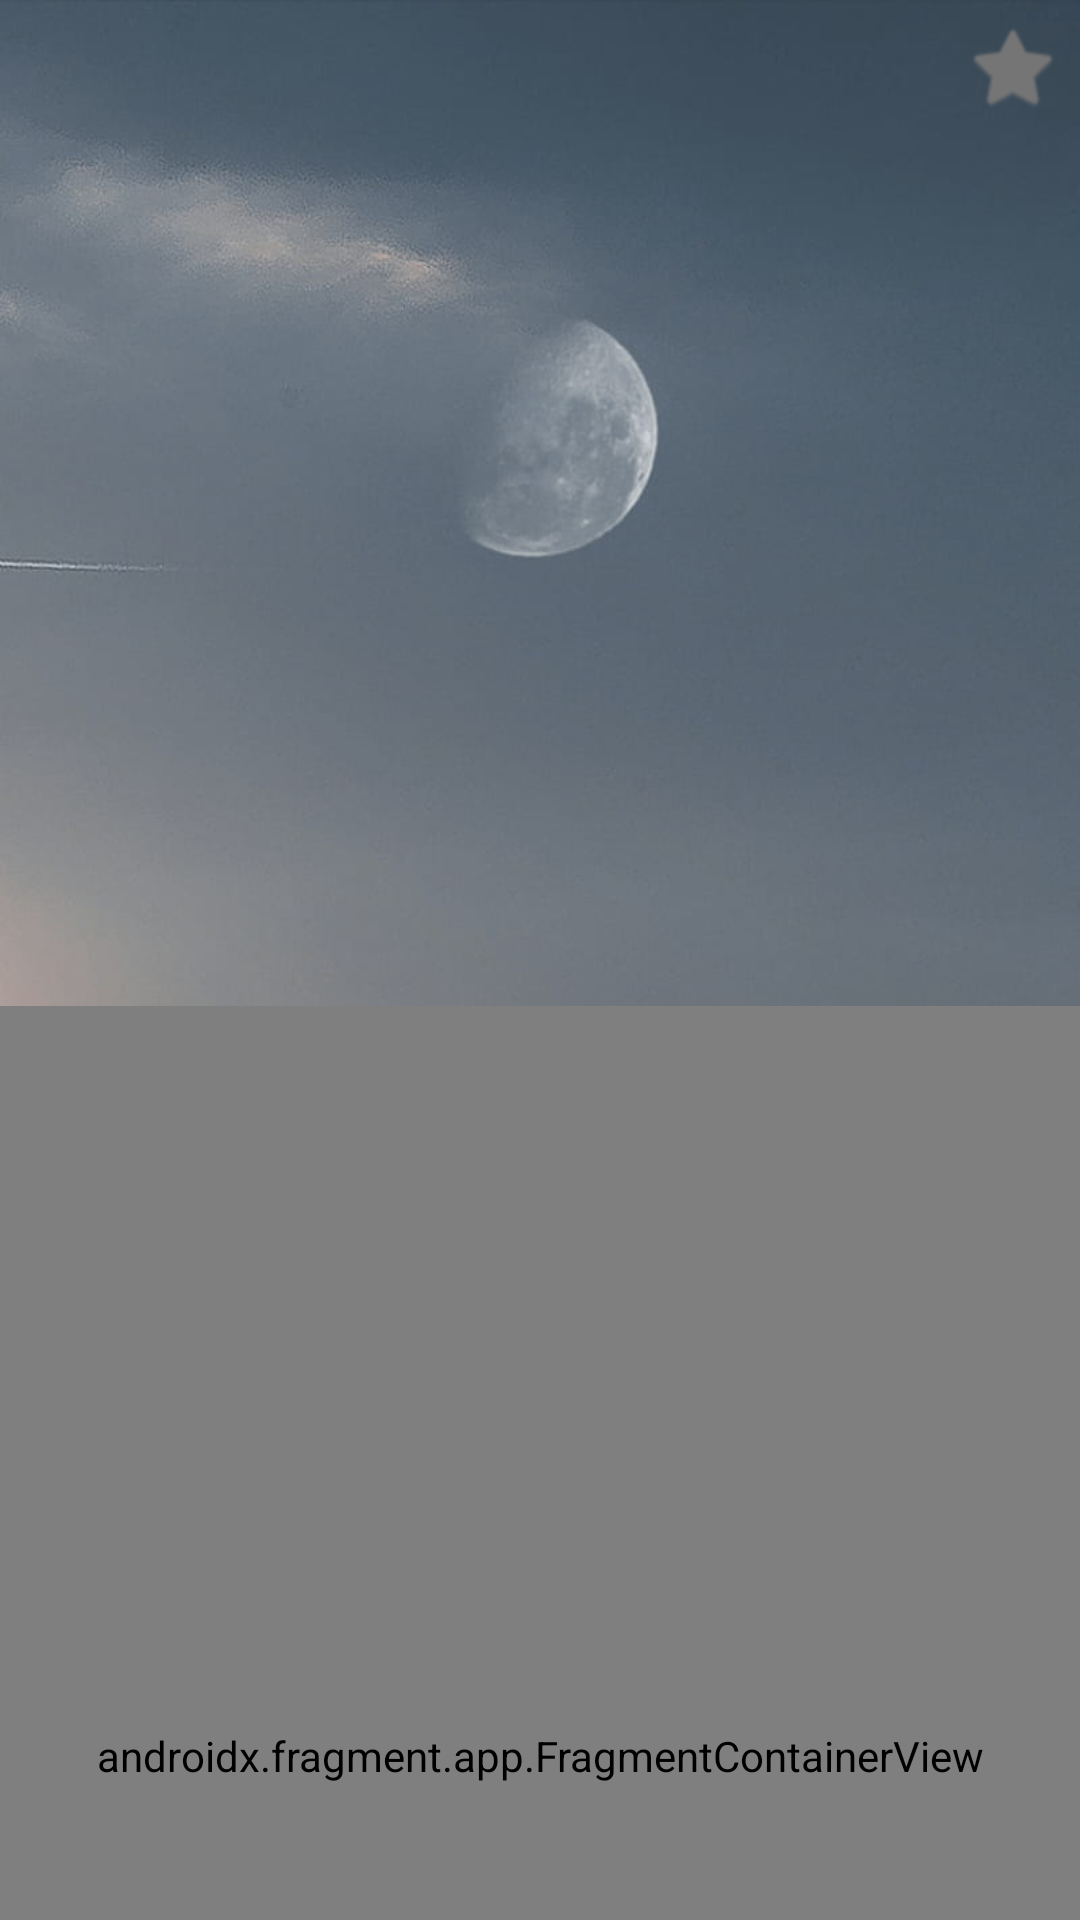

Where icons sit on this 1080 x 1920 app screen, as (x1, y1, x2, y2):
star: (975, 31, 1051, 104)
